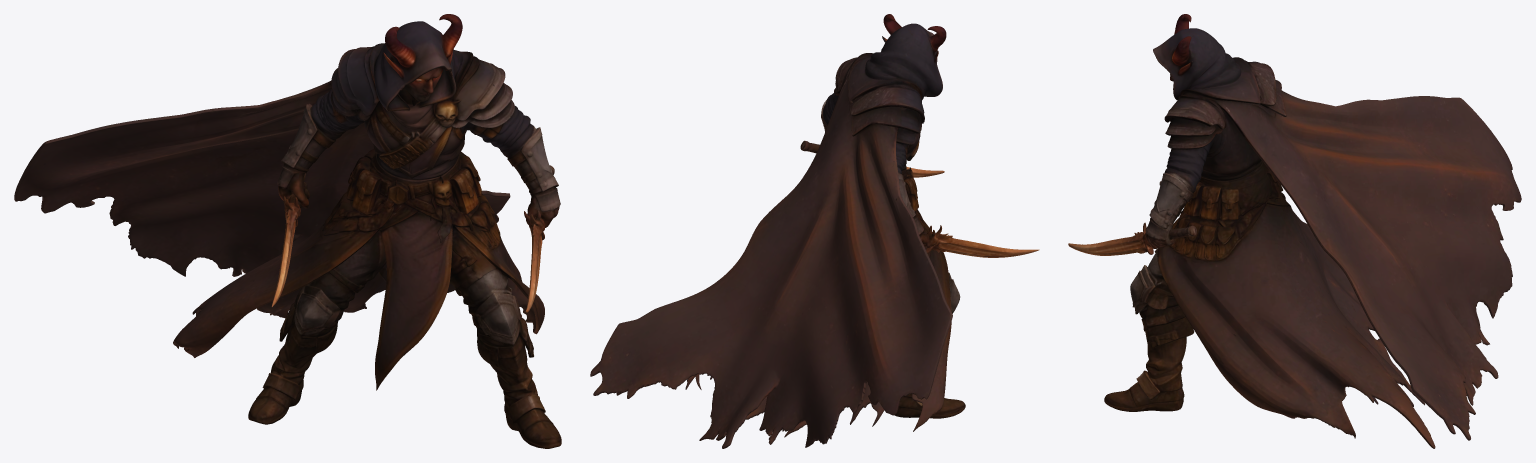
File: tiefling_rogue_full_male_01.glb
The picture shows the model from 3 angles, left to right: view 1: azimuth 30°, elevation 25°; view 2: azimuth 150°, elevation 25°; view 3: azimuth 270°, elevation 25°; orthographic projection. The views are drawn at different scales.
Parts seen in each view (by area): view 1: material; view 2: material; view 3: material.
Part boxes in pixels (box(x1,y1,x2,y2)): material: box(14, 14, 561, 448); material: box(590, 14, 1039, 448); material: box(1068, 14, 1521, 448).
Size of the model in its own units: 0.8263 by 0.7347 by 0.8668.
1 material, 1 textured.
